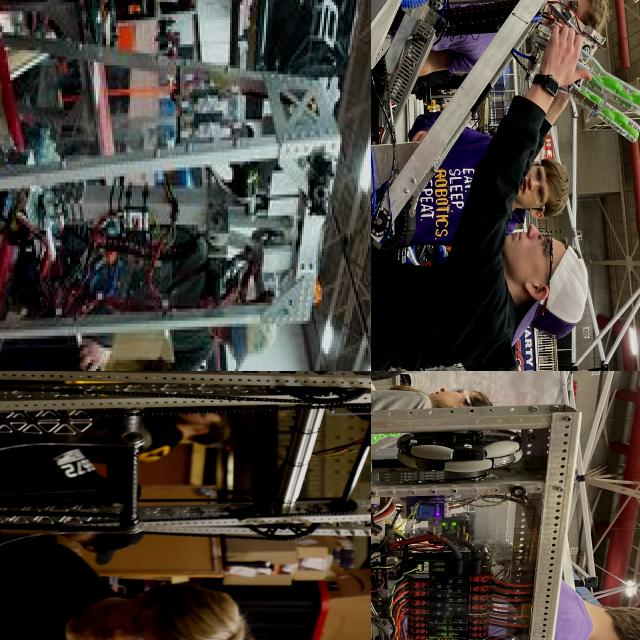FRC-Robots: (0, 0, 339, 371), (371, 0, 640, 337), (0, 371, 371, 593), (371, 371, 568, 640)
